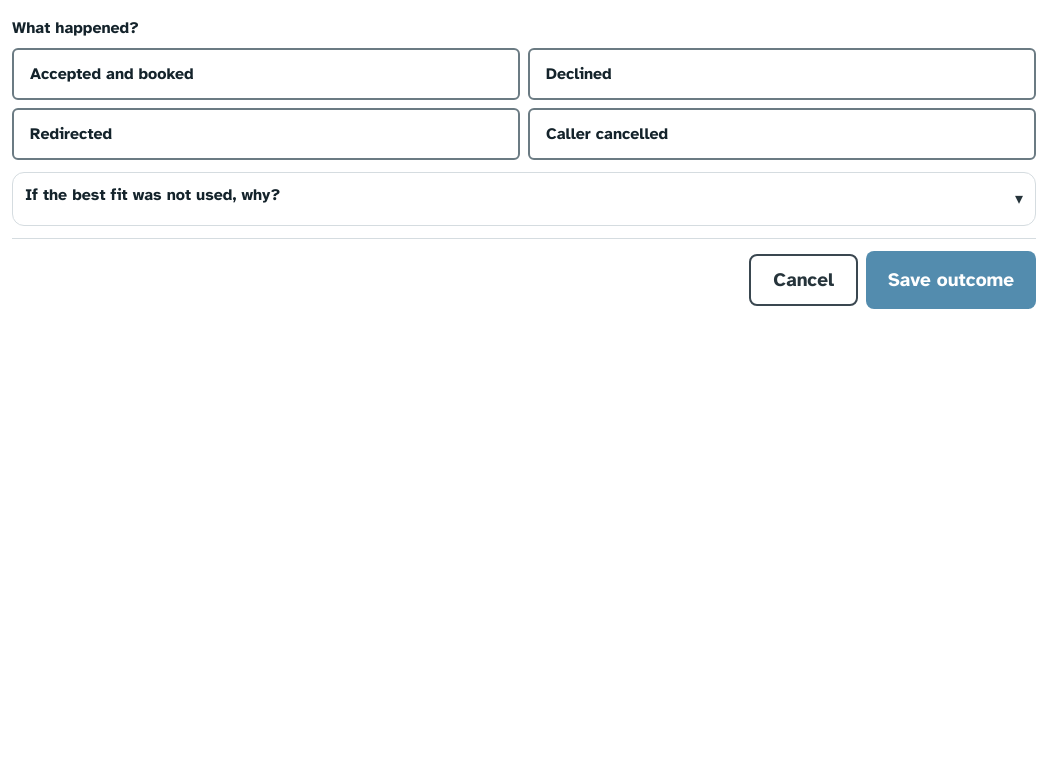
Scenario: the destination of an outcome (W15) › says so, and lets the advisor try again, when the services cannot be read: the outcome cannot be saved without one
Click the button "Accepted and booked". click: (112, 74)
box: [12,48,520,100]
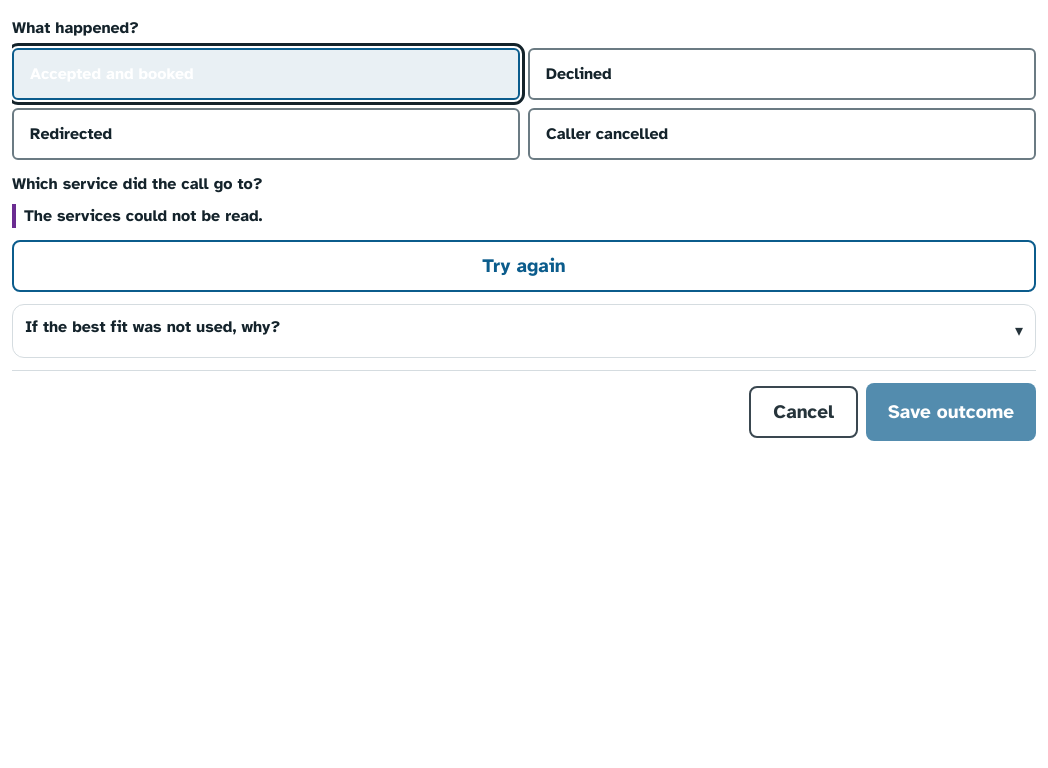
Now the text "The services could not be read." is shown, box [12,204,1036,228]
Click the button "Try again". click: (524, 266)
box: [12,240,1036,292]
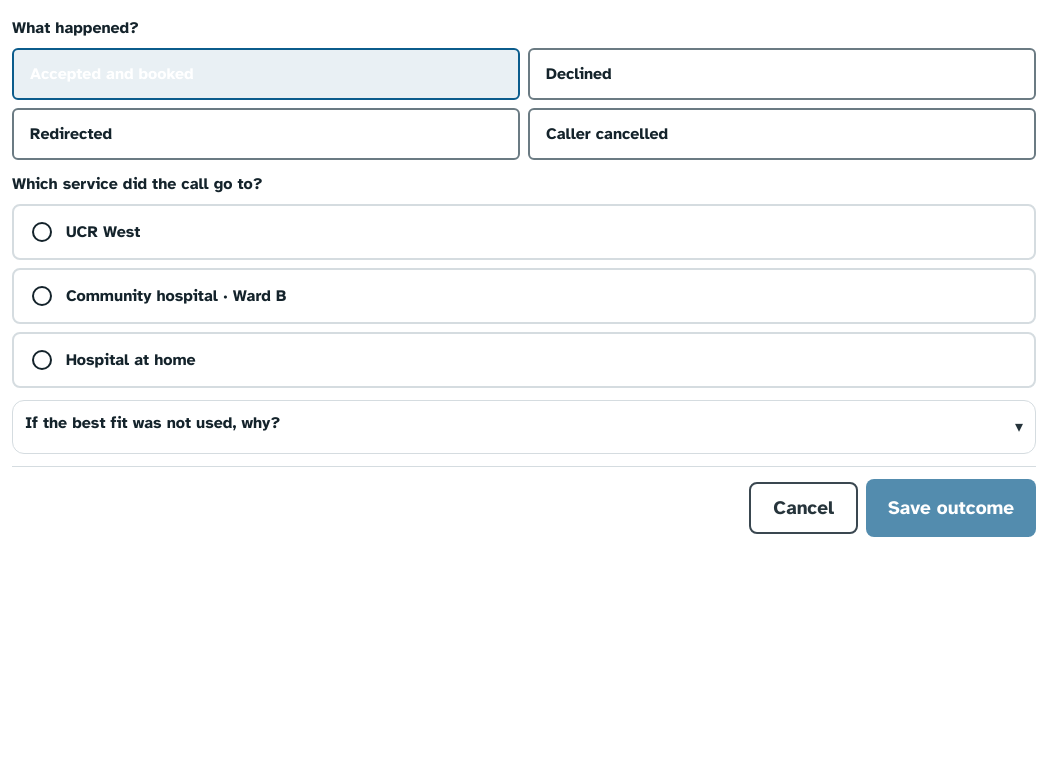
Now the button "UCR West" is shown, box [12,204,1036,260]
